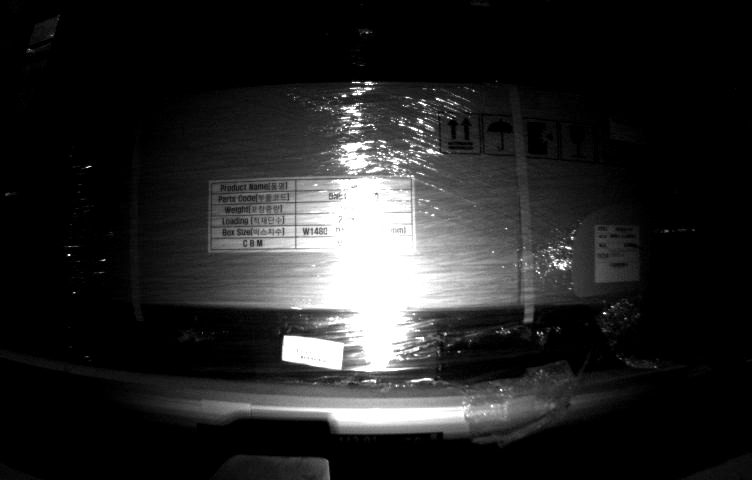True Barcode: (589, 226, 640, 283)
